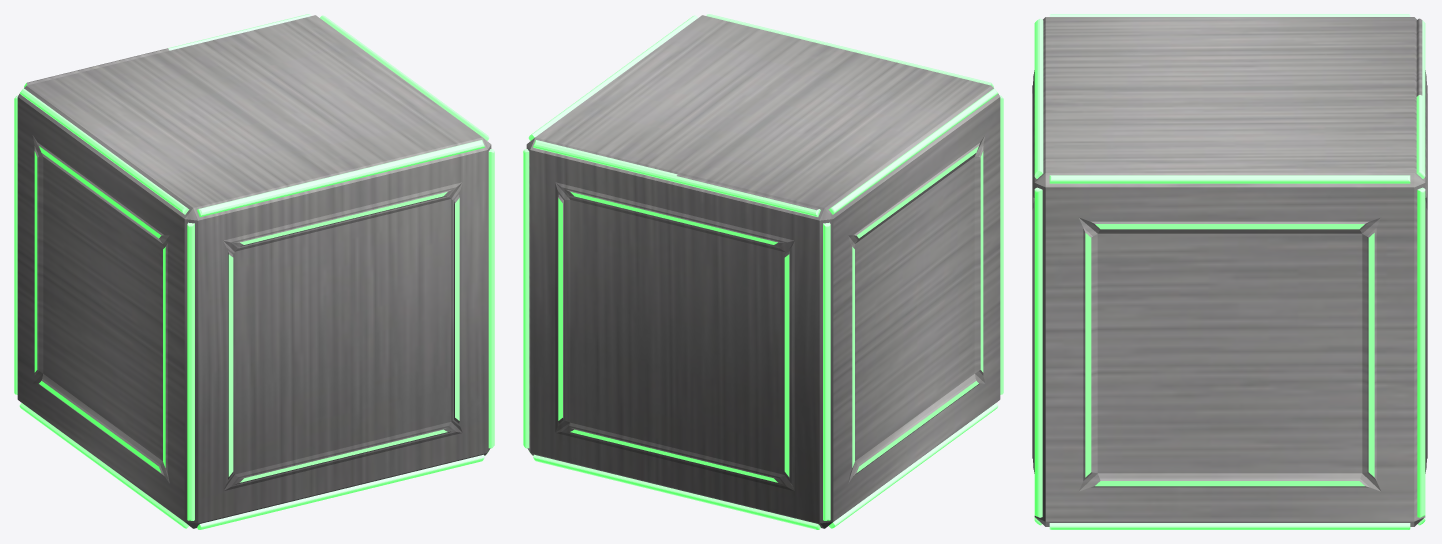
File: Caja_Laberinto_03.fbx
The picture shows the model from 3 angles, left to right: view 1: azimuth 30°, elevation 25°; view 2: azimuth 150°, elevation 25°; view 3: azimuth 270°, elevation 25°; orthographic projection. The views are drawn at different scales.
Parts seen in each view (by area): view 1: Cubo.001; view 2: Cubo.001; view 3: Cubo.001.
Part boxes in pixels (left/top/right/bottom): Cubo.001: left=14, top=14, right=494, bottom=529; Cubo.001: left=523, top=14, right=1003, bottom=529; Cubo.001: left=1032, top=14, right=1427, bottom=529.
Bounding box in the file's own units: 201 × 200 × 203.
